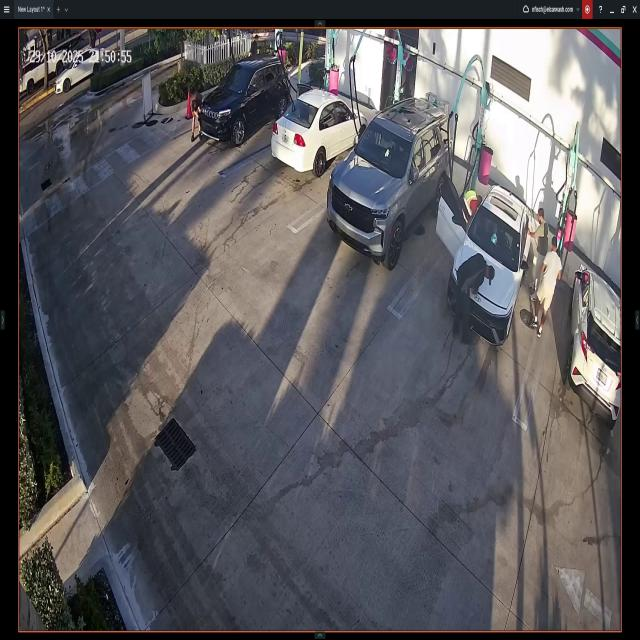Car: (329, 99, 454, 263), (442, 174, 530, 346), (569, 263, 621, 427), (274, 89, 366, 176), (199, 58, 289, 146), (54, 47, 106, 94)
